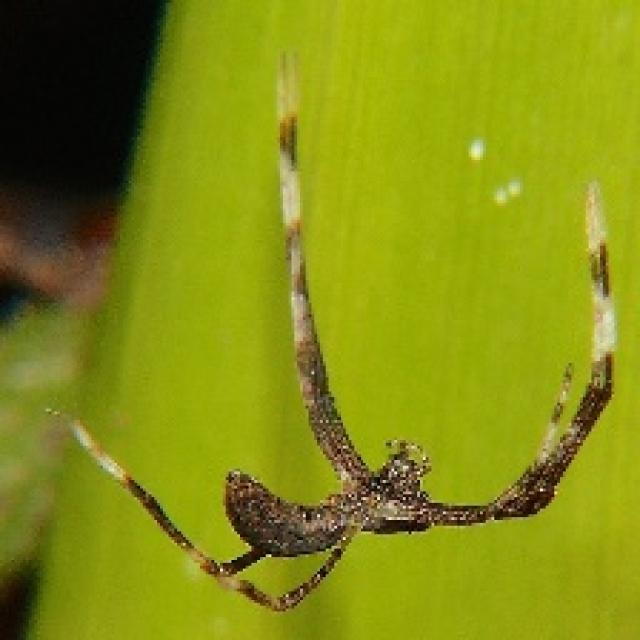Non venomous spider: (26, 34, 636, 623)
